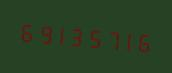five: (85, 20, 101, 54)
nine: (34, 15, 50, 49)
one: (119, 22, 135, 57), (51, 17, 67, 51)
seven: (102, 21, 118, 55)
six: (17, 14, 33, 48), (136, 24, 152, 58)
three: (68, 18, 84, 52)
